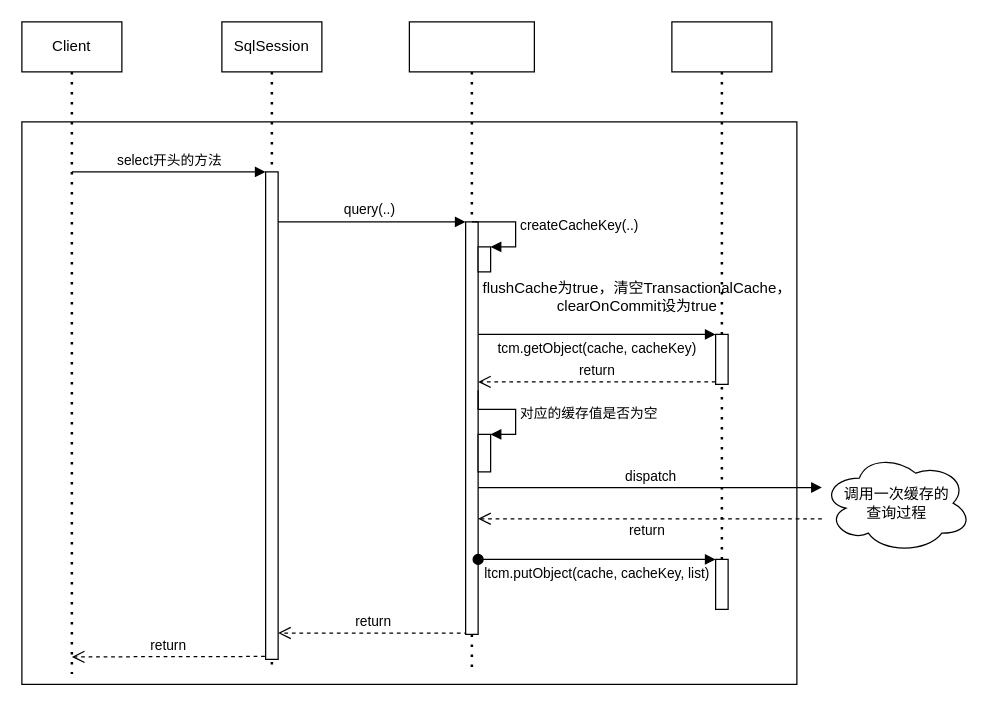
This 994x706 diagram has some shape labels left out. The shapes that lost their labels are listed below. From the top down, each one's centre as x and y in pixels, then its label:
At (x=471, y=46): "CacheExecutor".
At (x=721, y=46): "Cache".
